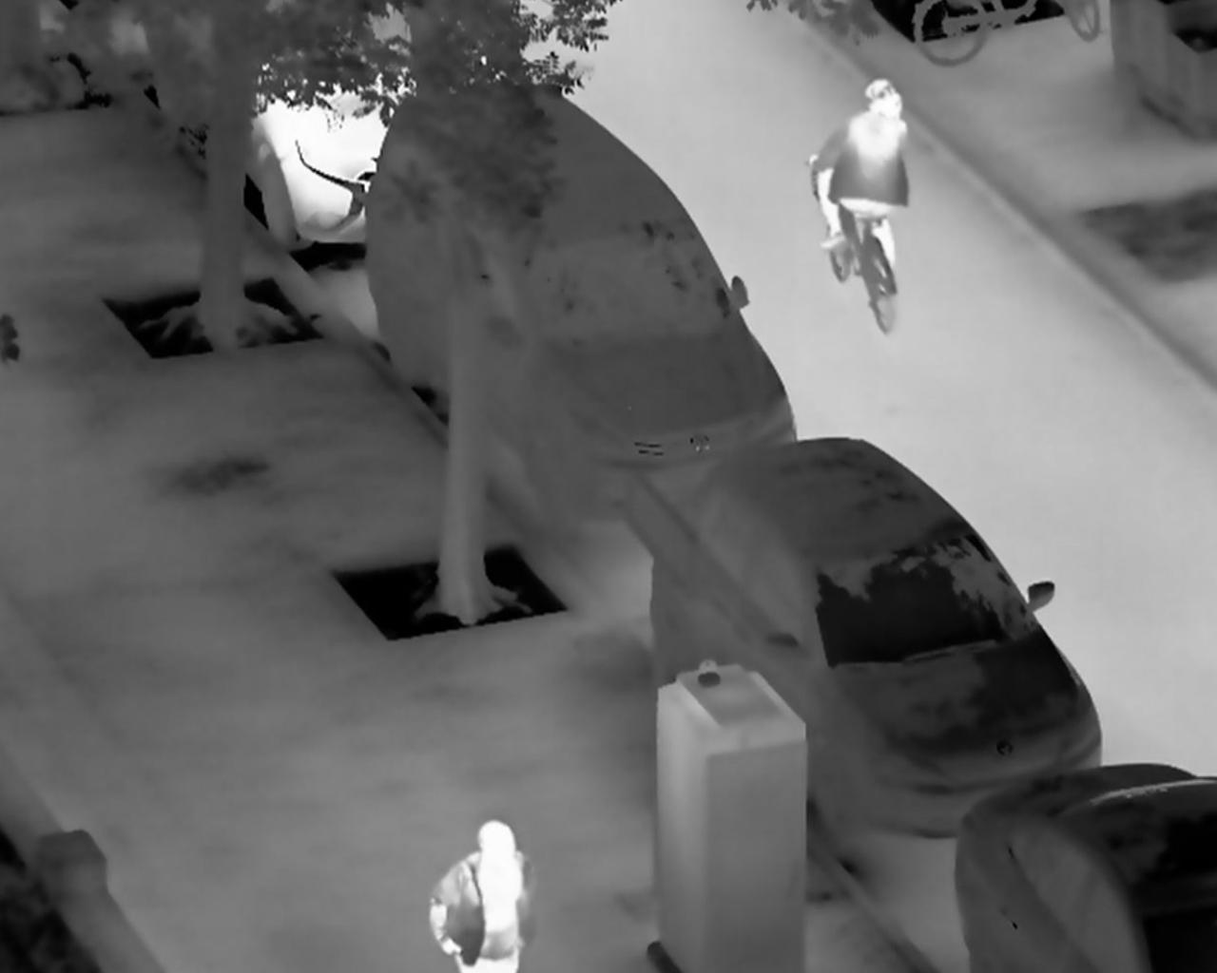person: (803, 74, 908, 277), (429, 818, 541, 973)
